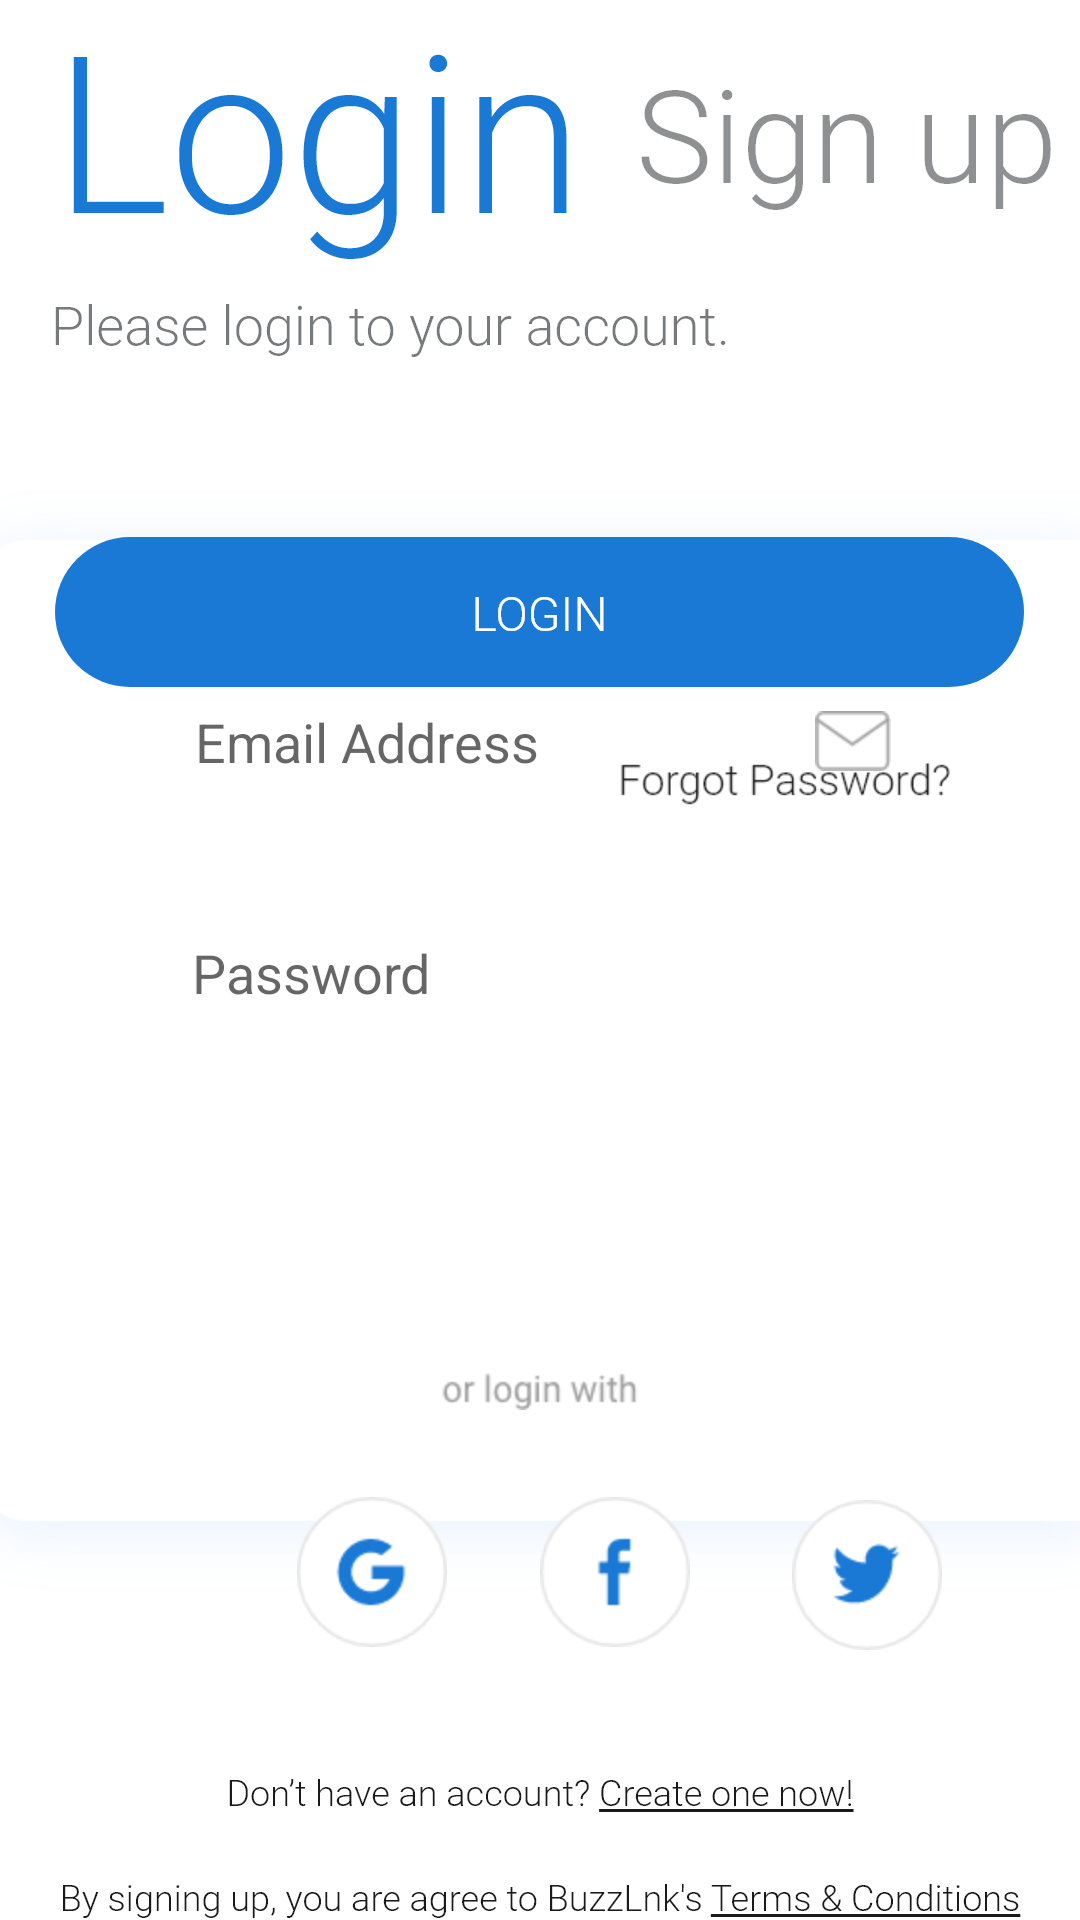

Icons on this 1080 × 1920 Android screen, each with the point to tap as (x=x, y=y):
feather mail: (x=853, y=741)
